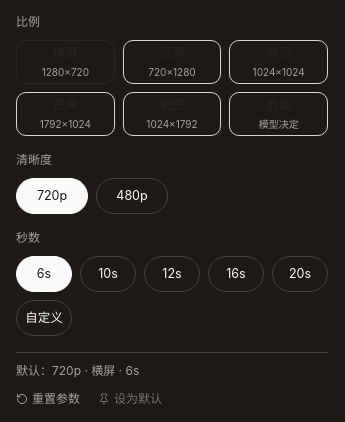
Test case: VideoSettingsPanel 重构（D9/D12/D20） › 时长行有「自定义」按钮；点击变输入框提交
Click the button "自定义": [44, 318] box top-left (16, 300), bottom-right (72, 336)
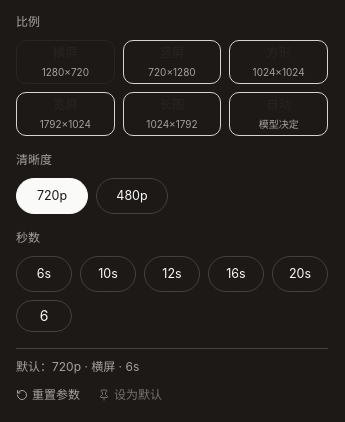
Replace the text in the number field showing "6" with "8": [44, 316] box top-left (17, 306), bottom-right (71, 326)
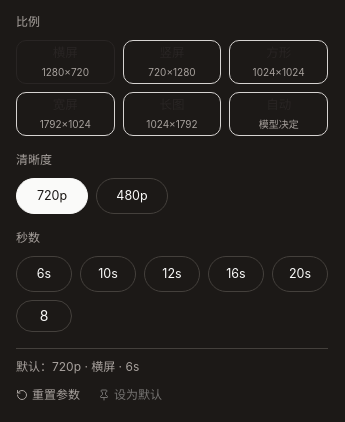
Leave the number field showing "8", box top-left (17, 306), bottom-right (71, 326)
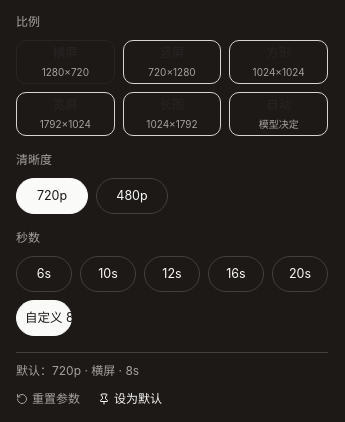
Check: the text "自定义 8s" is shown, box top-left (25, 310), bottom-right (80, 325)
